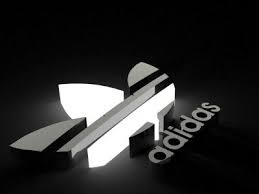adidas: (145, 101, 222, 166)
